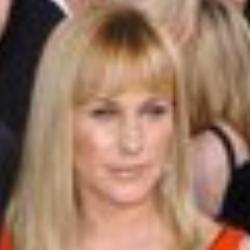face: (8, 4, 203, 236)
